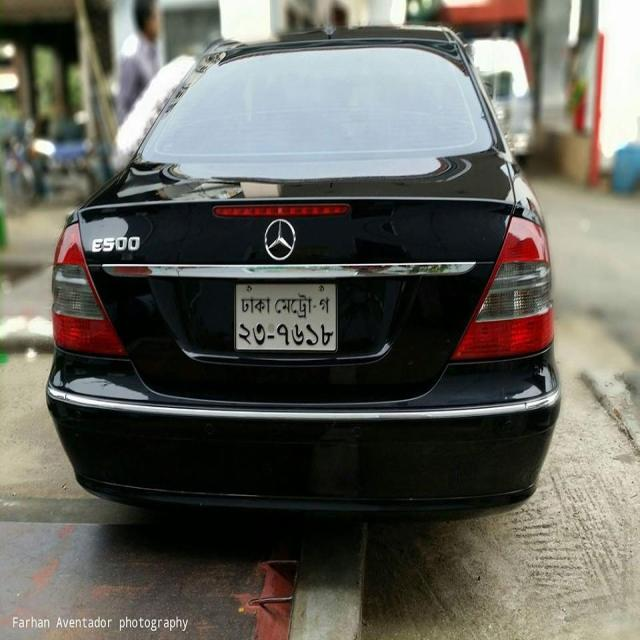numberplate: (233, 281, 338, 352)
